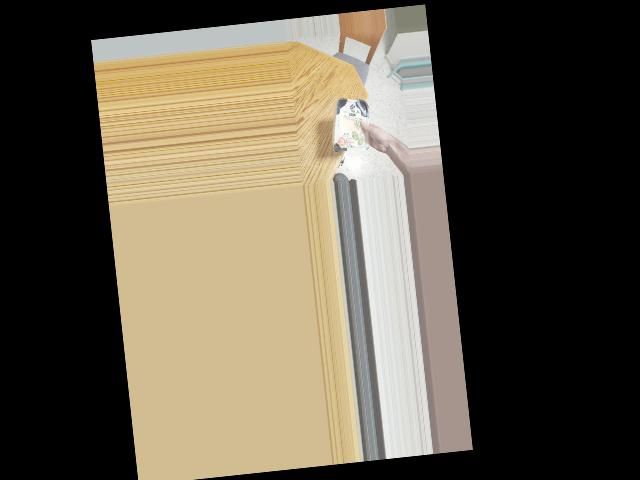cheese: (334, 96, 370, 149)
